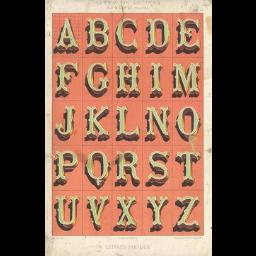a: (56, 18, 80, 54)
b: (84, 16, 110, 54)
c: (116, 15, 140, 51)
d: (146, 16, 172, 56)
e: (174, 16, 200, 54)
f: (54, 60, 80, 96)
g: (84, 59, 108, 95)
h: (114, 62, 140, 98)
i: (145, 61, 163, 97)
j: (50, 102, 78, 140)
k: (81, 102, 113, 144)
l: (114, 101, 146, 145)
m: (170, 61, 204, 99)
n: (144, 102, 174, 146)
o: (174, 103, 202, 143)
p: (52, 148, 84, 190)
q: (84, 148, 114, 190)
r: (110, 148, 144, 190)
s: (145, 151, 177, 185)
t: (174, 148, 200, 190)
u: (52, 192, 82, 232)
v: (84, 191, 114, 231)
x: (112, 192, 142, 234)
y: (144, 193, 176, 233)
z: (170, 194, 206, 236)
